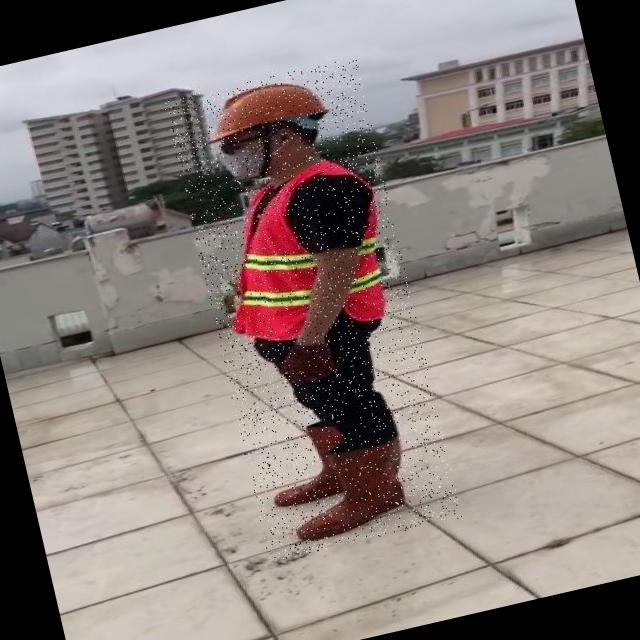boots: (281, 435, 419, 544), (257, 417, 357, 508)
helmet: (192, 68, 332, 146)
vest: (206, 155, 399, 351)
